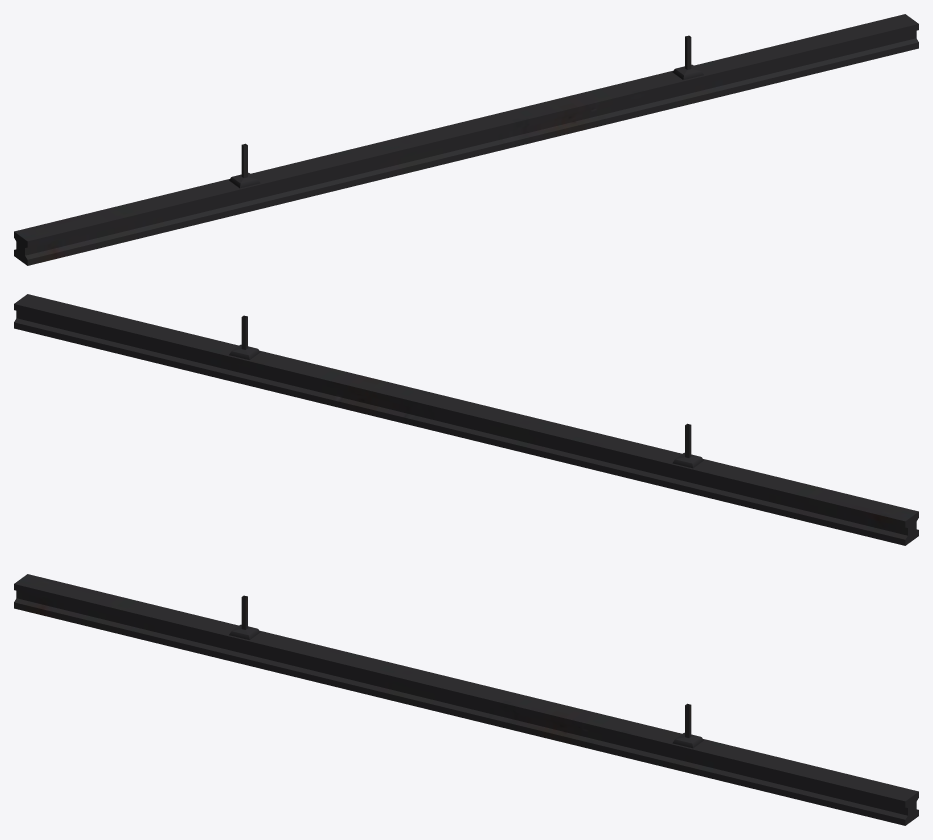
The model's file is light-rail-01.glb.
The picture shows the model from 3 angles, top to bottom: view 1: azimuth 30°, elevation 25°; view 2: azimuth 150°, elevation 25°; view 3: azimuth 330°, elevation 25°; orthographic projection.
Visible parts, largest first — view 1: Light_Rail_01; view 2: Light_Rail_01; view 3: Light_Rail_01.
Boxes of the visible parts, x1,y1,x2,y2 form: Light_Rail_01: (14, 14, 918, 265); Light_Rail_01: (14, 294, 918, 545); Light_Rail_01: (14, 574, 918, 825).
Size of the model in its own units: 3.2 by 0.2105 by 0.0844.
1 material, 1 textured.
